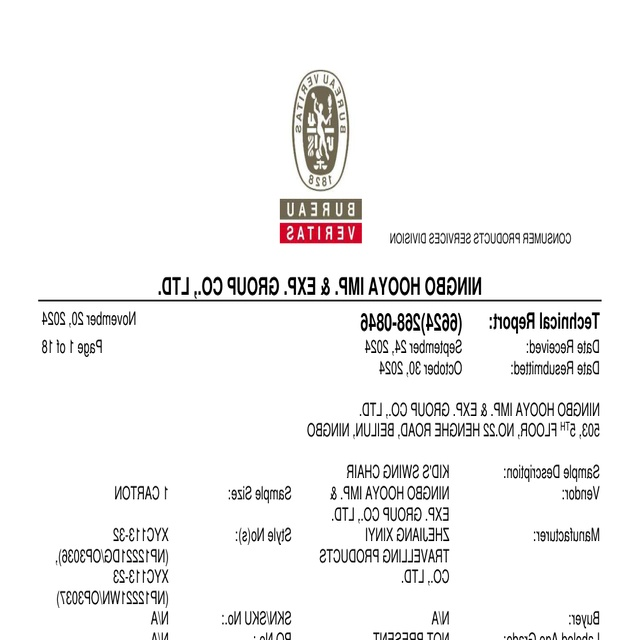bureau_veritas: (277, 63, 364, 245)
